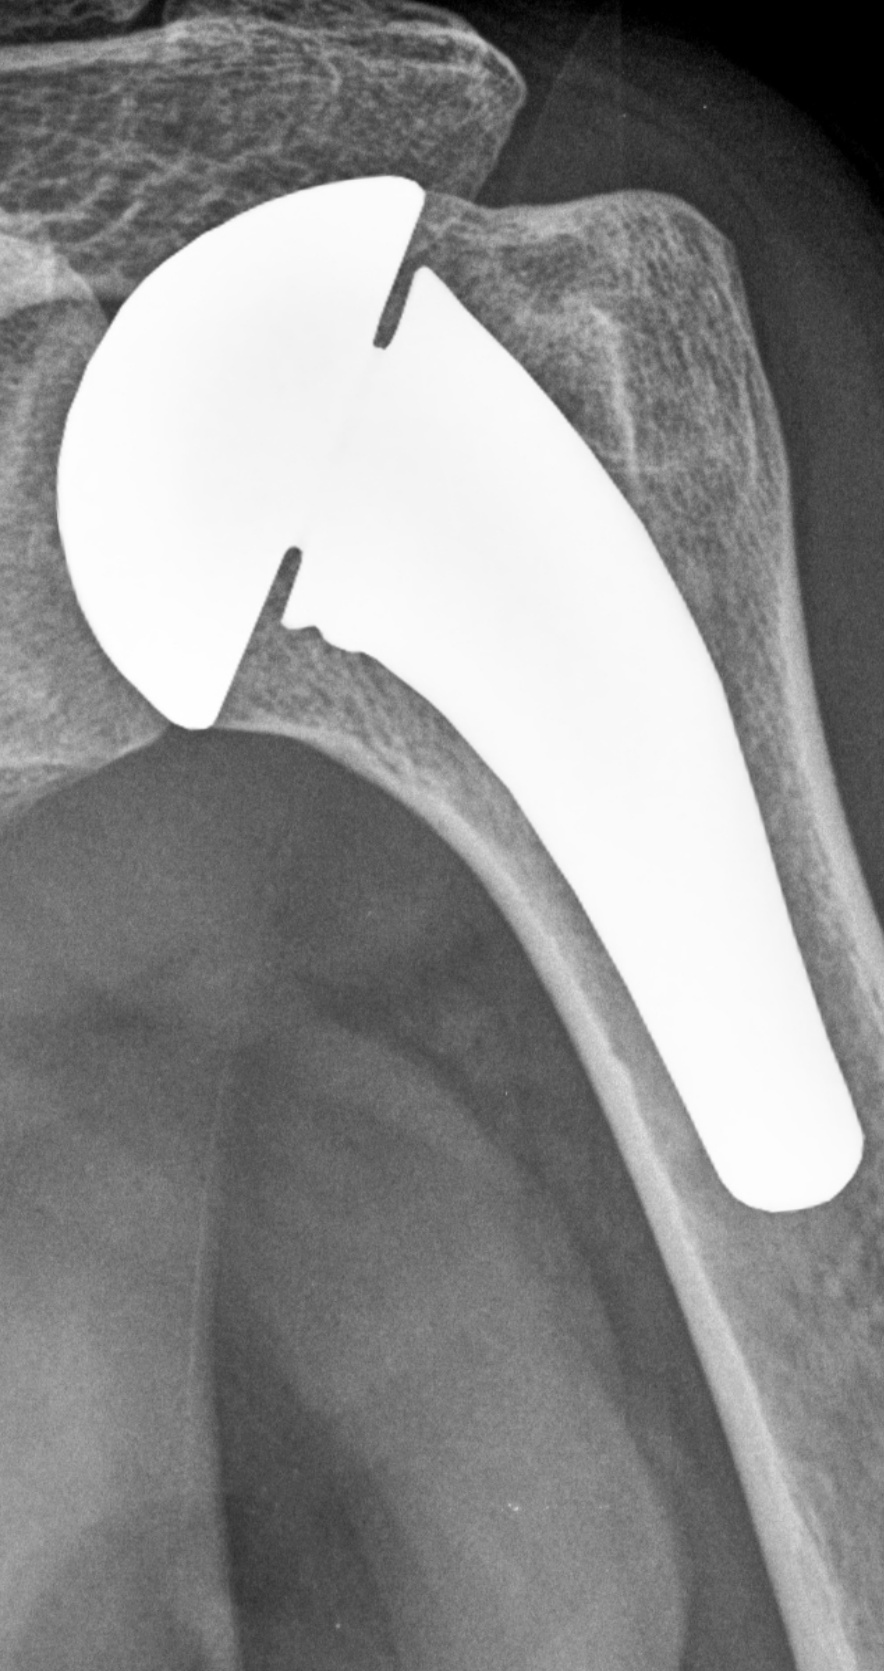Shoulder - AequalisAscendFlex - Tornier: (50, 175, 443, 756)
